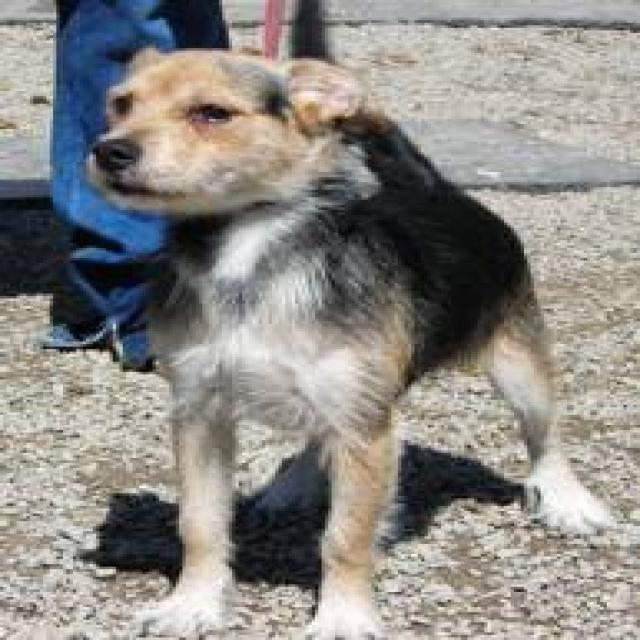Dog: (88, 39, 369, 231)
